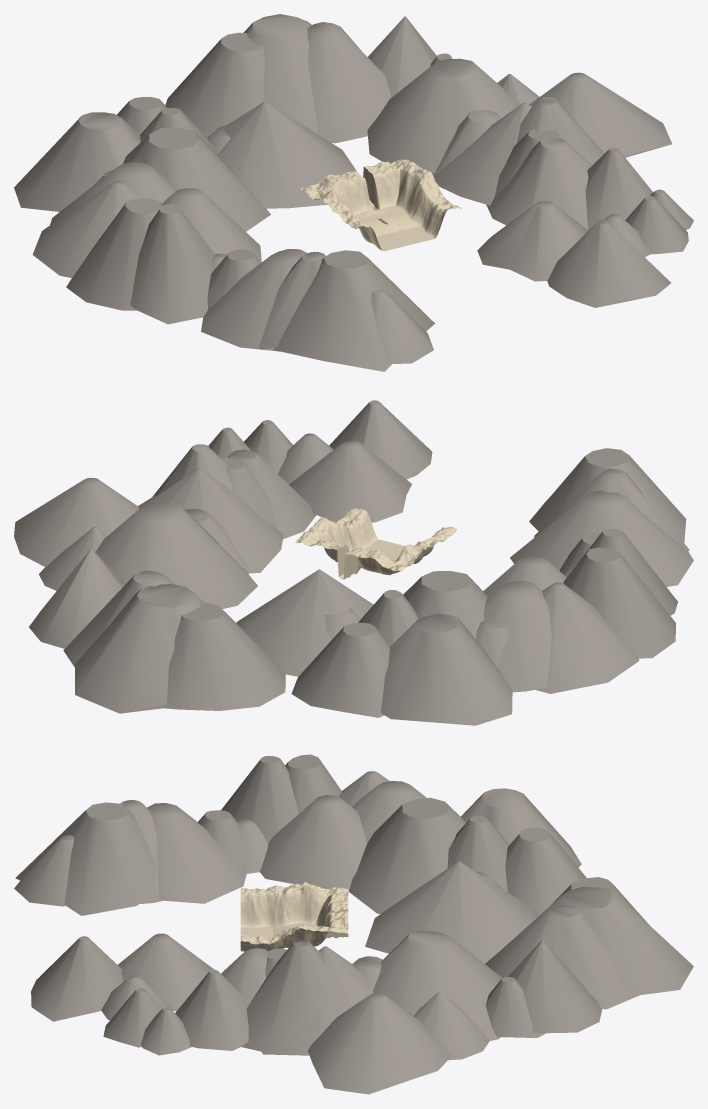
The model's file is lobby.glb.
3 views of the same model, one above another, from view 1: azimuth 30°, elevation 25°; view 2: azimuth 150°, elevation 25°; view 3: azimuth 270°, elevation 25° (orthographic). The views are drawn at different scales.
Visible parts, largest first — view 1: Mountains, Terrain-col; view 2: Mountains, Terrain-col; view 3: Mountains, Terrain-col.
Part boxes in pixels (bbox=[...]): Mountains: bbox=[14, 14, 693, 371]; Terrain-col: bbox=[300, 159, 461, 251]; Mountains: bbox=[14, 400, 693, 725]; Terrain-col: bbox=[295, 508, 456, 579]; Mountains: bbox=[14, 754, 693, 1094]; Terrain-col: bbox=[240, 882, 348, 951].
Bounding box in the file's own units: 1402 × 191 × 1399.
